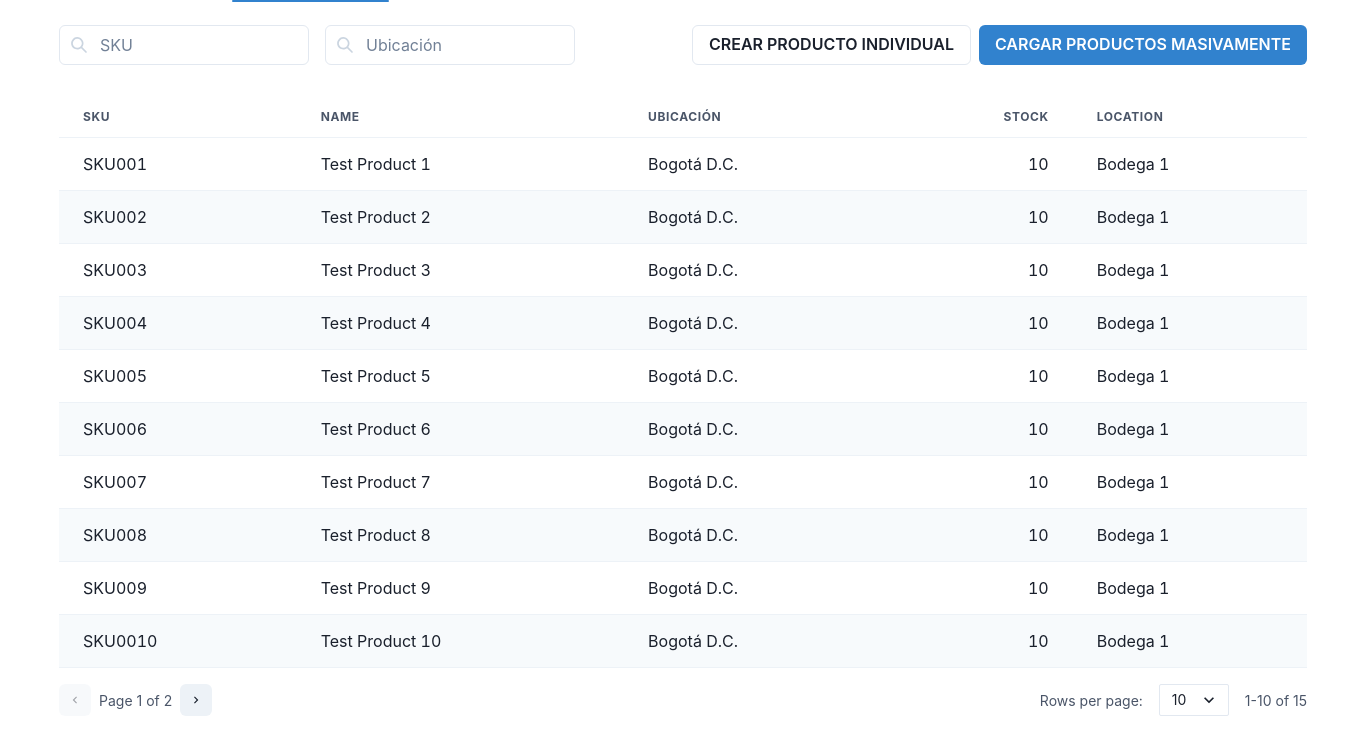
Test: Products Component › handles pagination - navigates to previous page
This screenshot has width=1366, height=748.
(page scrolled)
Check: the text "SKU001" is shown, box [59,138,297,190]
// Go to page 2 first
Click the button named "Next page" at (196, 700), box [180,684,212,716]
(page scrolled)
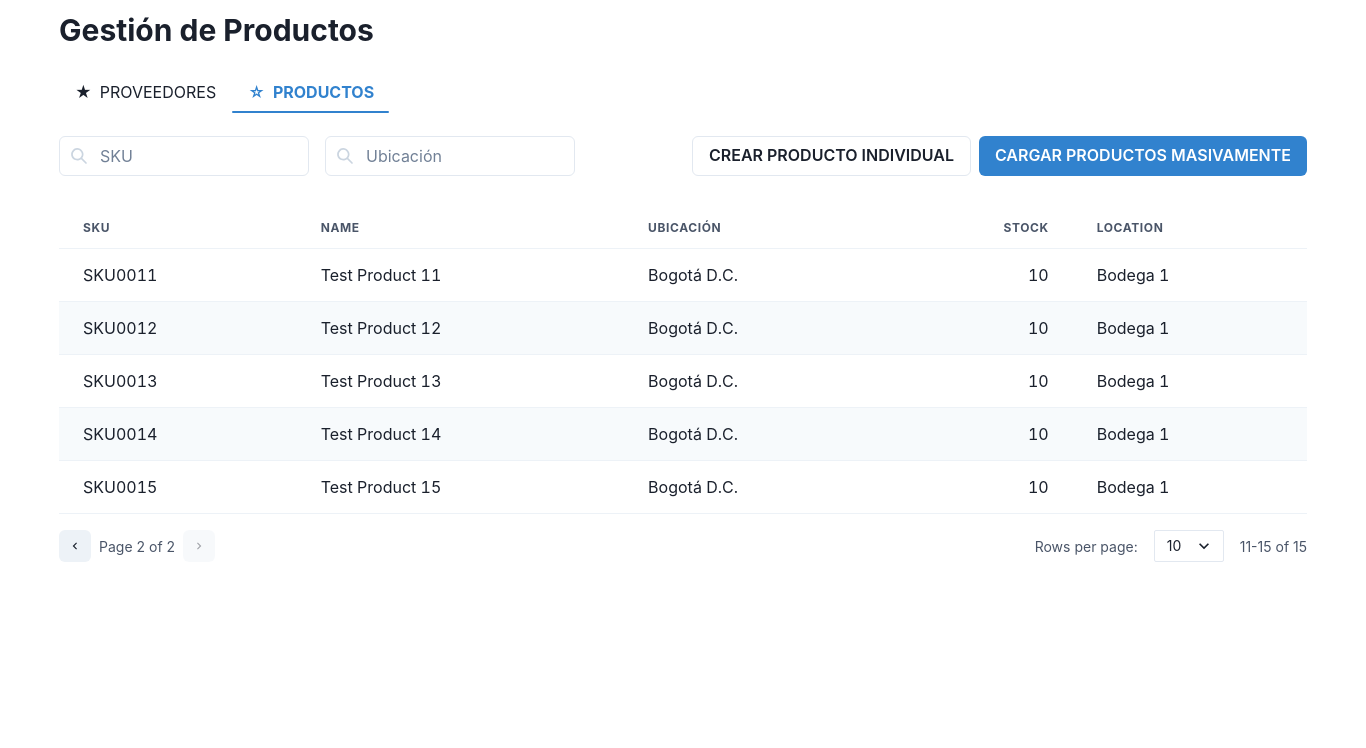
Check: the text "Page 2 of 2" is shown, box [99,536,175,556]
// Now go back to page 1
Click the button named "Previous page" at (75, 546), box [59,530,91,562]
(page scrolled)
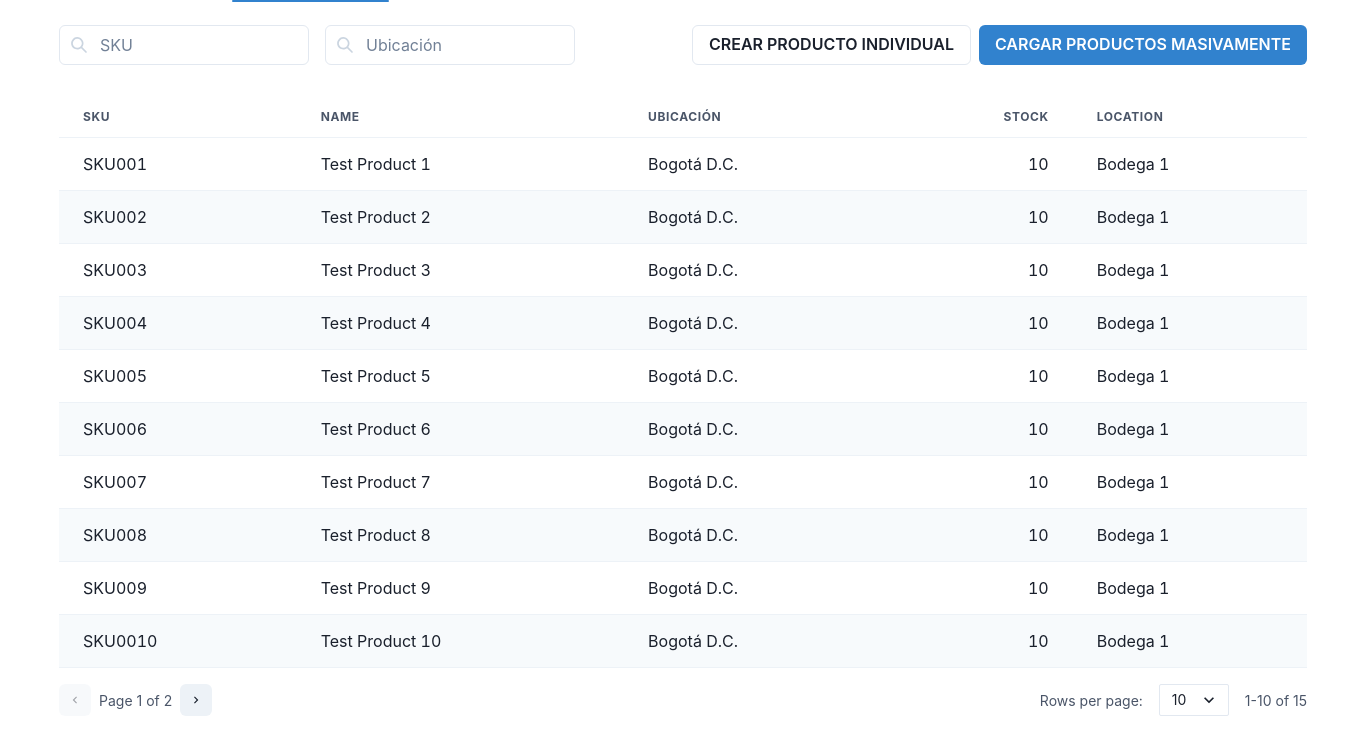
Check: the text "Page 1 of 2" is shown, box [99,690,172,710]
